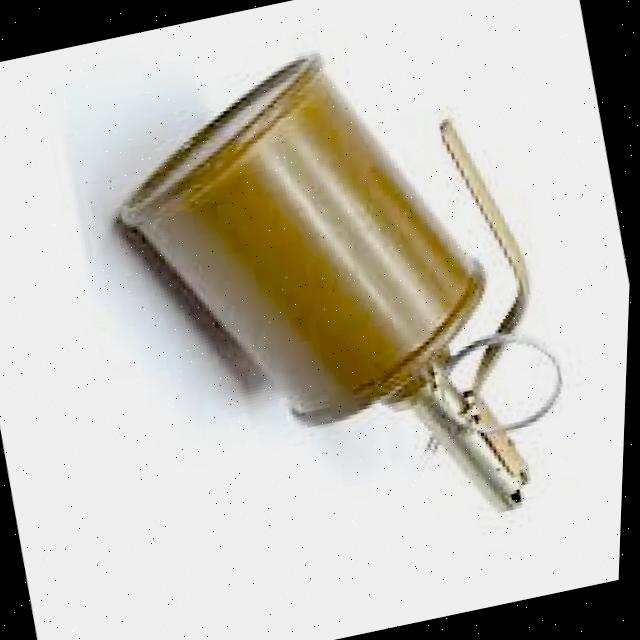grenade: (79, 9, 592, 578)
